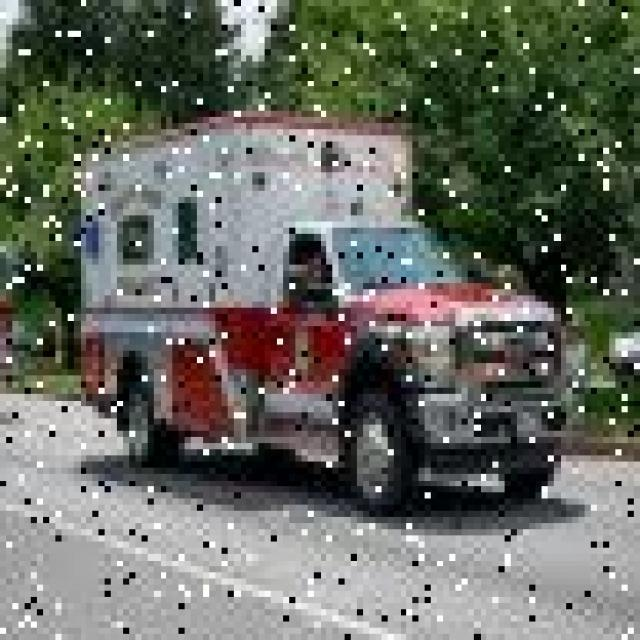emergency-vehicle: (70, 114, 576, 514)
